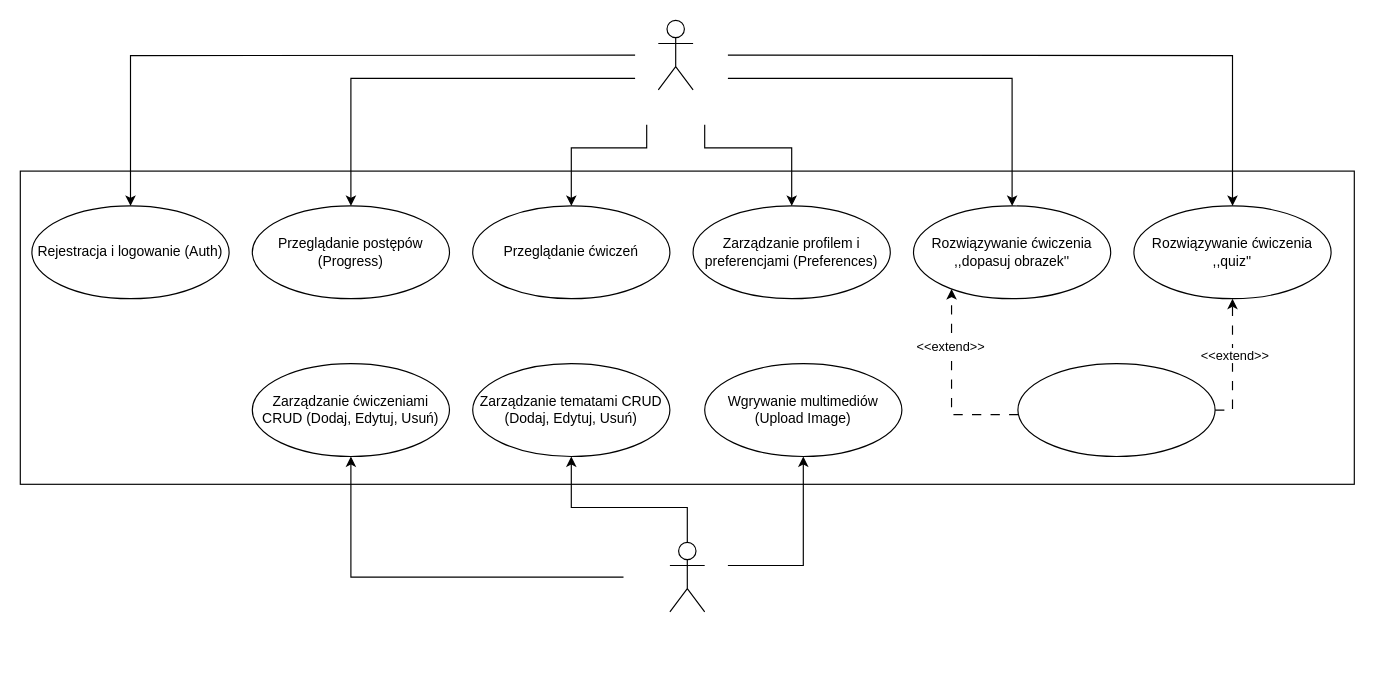
This 1375x674 diagram has some shape labels left out. The shapes that lost their labels are listed below. From the top down, each one's centre as x and y in pixels, then its label:
At (x=675, y=54): "Dziecko (Uczeń / Student)".
At (x=1116, y=409): "Personalizacja tekstu (Inflection)".
At (x=687, y=576): "Administrator (Manager) backend".
